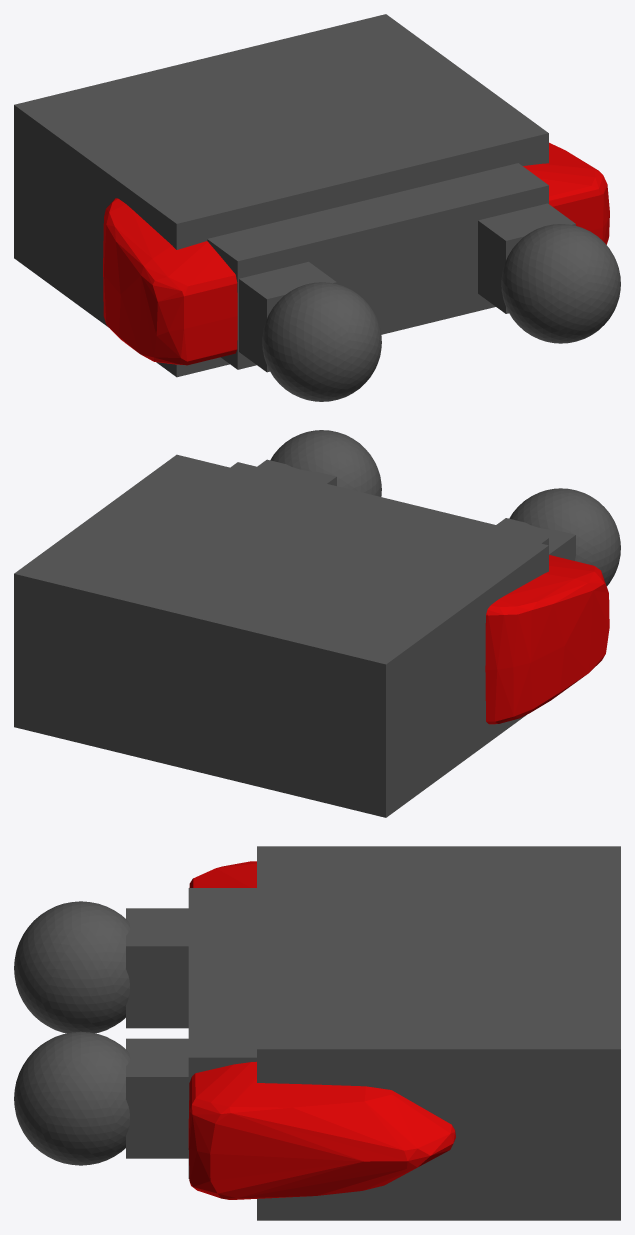
Rendered from gripper-6.obj.
The picture shows the model from 3 angles, top to bottom: view 1: azimuth 30°, elevation 25°; view 2: azimuth 150°, elevation 25°; view 3: azimuth 270°, elevation 25°; orthographic projection. The views are drawn at different scales.
Bounding box in the file's own units: 0.2044 × 0.065 × 0.2085.
